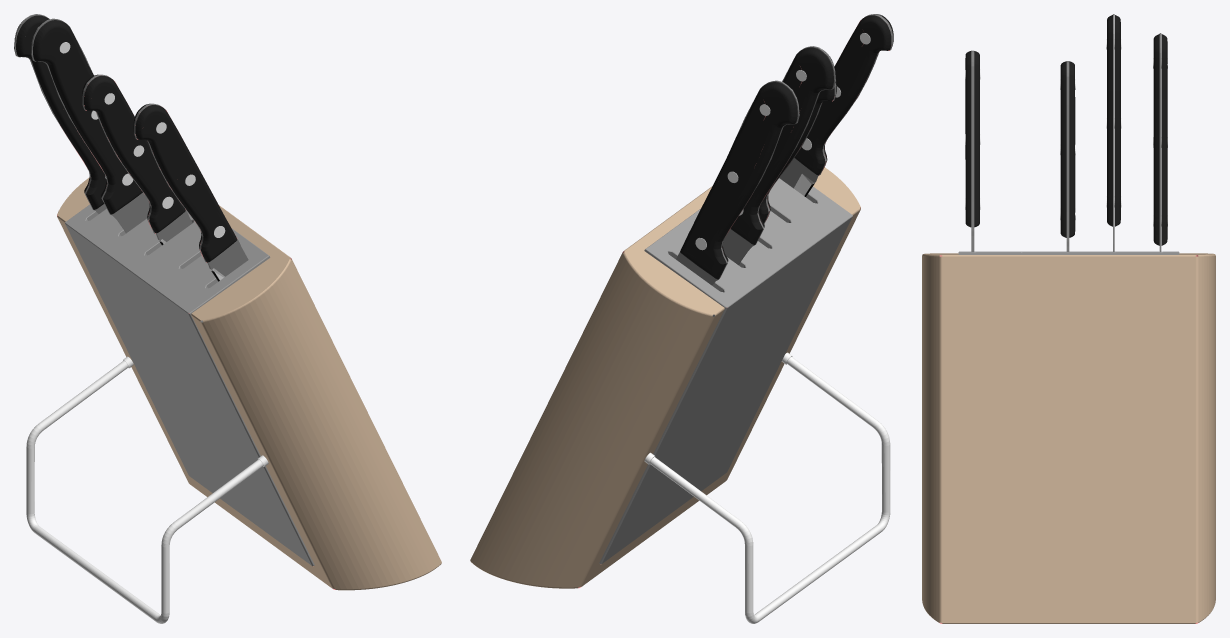
The model's file is cutlery.glb.
3 views of the same model, side by side, from view 1: azimuth 30°, elevation 25°; view 2: azimuth 150°, elevation 25°; view 3: azimuth 270°, elevation 25° (orthographic). The views are drawn at different scales.
Parts seen in each view (by area): view 1: mesh_28_ROOT__skpC3FA__Rectangle0_Layer0_173_128_89_ss, mesh_30_ROOT__skpC3FA__Rectangle1_Layer0_91_91_91_ss, mesh_19_ROOT__skpC3FA__2#2_Layer0_3_3_3_ss, mesh_9_ROOT__skpC3FA__1#1_Layer0_3_3_3_ss, mesh_32_ROOT__skpC3FA__Rectangle2_Layer0_255_255_255_ss, mesh_4_ROOT__skpC3FA__1_Layer0_3_3_3_ss, mesh_14_ROOT__skpC3FA__2#1_Layer0_3_3_3_ss, mesh_18_ROOT__skpC3FA__2#2_Layer0_57_57_57_ss, mesh_5_ROOT__skpC3FA__1#1_Layer0_57_57_57_ss, mesh_0_ROOT__skpC3FA__1_Layer0_57_57_57_ss; view 2: mesh_28_ROOT__skpC3FA__Rectangle0_Layer0_173_128_89_ss, mesh_30_ROOT__skpC3FA__Rectangle1_Layer0_91_91_91_ss, mesh_14_ROOT__skpC3FA__2#1_Layer0_3_3_3_ss, mesh_32_ROOT__skpC3FA__Rectangle2_Layer0_255_255_255_ss, mesh_9_ROOT__skpC3FA__1#1_Layer0_3_3_3_ss, mesh_19_ROOT__skpC3FA__2#2_Layer0_3_3_3_ss, mesh_18_ROOT__skpC3FA__2#2_Layer0_57_57_57_ss, mesh_5_ROOT__skpC3FA__1#1_Layer0_57_57_57_ss, mesh_13_ROOT__skpC3FA__2#1_Layer0_57_57_57_ss, mesh_4_ROOT__skpC3FA__1_Layer0_3_3_3_ss; view 3: mesh_28_ROOT__skpC3FA__Rectangle0_Layer0_173_128_89_ss, mesh_14_ROOT__skpC3FA__2#1_Layer0_3_3_3_ss, mesh_19_ROOT__skpC3FA__2#2_Layer0_3_3_3_ss, mesh_4_ROOT__skpC3FA__1_Layer0_3_3_3_ss, mesh_9_ROOT__skpC3FA__1#1_Layer0_3_3_3_ss, mesh_30_ROOT__skpC3FA__Rectangle1_Layer0_91_91_91_ss, mesh_5_ROOT__skpC3FA__1#1_Layer0_57_57_57_ss, mesh_0_ROOT__skpC3FA__1_Layer0_57_57_57_ss, mesh_13_ROOT__skpC3FA__2#1_Layer0_57_57_57_ss, mesh_18_ROOT__skpC3FA__2#2_Layer0_57_57_57_ss.
Part boxes in pixels (box(x1,y1,x2,y2)): mesh_28_ROOT__skpC3FA__Rectangle0_Layer0_173_128_89_ss: box(57, 177, 441, 590); mesh_30_ROOT__skpC3FA__Rectangle1_Layer0_91_91_91_ss: box(65, 204, 314, 566); mesh_19_ROOT__skpC3FA__2#2_Layer0_3_3_3_ss: box(32, 20, 142, 214); mesh_9_ROOT__skpC3FA__1#1_Layer0_3_3_3_ss: box(133, 103, 237, 262); mesh_32_ROOT__skpC3FA__Rectangle2_Layer0_255_255_255_ss: box(26, 360, 263, 623); mesh_4_ROOT__skpC3FA__1_Layer0_3_3_3_ss: box(82, 74, 185, 233); mesh_14_ROOT__skpC3FA__2#1_Layer0_3_3_3_ss: box(15, 15, 106, 209); mesh_18_ROOT__skpC3FA__2#2_Layer0_57_57_57_ss: box(31, 18, 149, 233); mesh_5_ROOT__skpC3FA__1#1_Layer0_57_57_57_ss: box(134, 103, 248, 276); mesh_0_ROOT__skpC3FA__1_Layer0_57_57_57_ss: box(82, 74, 192, 241); mesh_28_ROOT__skpC3FA__Rectangle0_Layer0_173_128_89_ss: box(470, 167, 860, 588); mesh_30_ROOT__skpC3FA__Rectangle1_Layer0_91_91_91_ss: box(599, 178, 852, 563); mesh_14_ROOT__skpC3FA__2#1_Layer0_3_3_3_ss: box(680, 82, 797, 279); mesh_32_ROOT__skpC3FA__Rectangle2_Layer0_255_255_255_ss: box(649, 356, 890, 623); mesh_9_ROOT__skpC3FA__1#1_Layer0_3_3_3_ss: box(794, 14, 893, 175); mesh_19_ROOT__skpC3FA__2#2_Layer0_3_3_3_ss: box(730, 47, 834, 244); mesh_18_ROOT__skpC3FA__2#2_Layer0_57_57_57_ss: box(722, 46, 835, 264); mesh_5_ROOT__skpC3FA__1#1_Layer0_57_57_57_ss: box(779, 14, 892, 188); mesh_13_ROOT__skpC3FA__2#1_Layer0_57_57_57_ss: box(676, 80, 799, 285); mesh_4_ROOT__skpC3FA__1_Layer0_3_3_3_ss: box(759, 80, 836, 222); mesh_28_ROOT__skpC3FA__Rectangle0_Layer0_173_128_89_ss: box(922, 253, 1215, 623); mesh_14_ROOT__skpC3FA__2#1_Layer0_3_3_3_ss: box(1153, 34, 1167, 245); mesh_19_ROOT__skpC3FA__2#2_Layer0_3_3_3_ss: box(1107, 15, 1120, 226); mesh_4_ROOT__skpC3FA__1_Layer0_3_3_3_ss: box(1060, 61, 1075, 237); mesh_9_ROOT__skpC3FA__1#1_Layer0_3_3_3_ss: box(965, 51, 979, 227); mesh_30_ROOT__skpC3FA__Rectangle1_Layer0_91_91_91_ss: box(958, 251, 1179, 254); mesh_5_ROOT__skpC3FA__1#1_Layer0_57_57_57_ss: box(971, 50, 974, 252); mesh_0_ROOT__skpC3FA__1_Layer0_57_57_57_ss: box(1066, 61, 1069, 252); mesh_13_ROOT__skpC3FA__2#1_Layer0_57_57_57_ss: box(1159, 33, 1161, 251); mesh_18_ROOT__skpC3FA__2#2_Layer0_57_57_57_ss: box(1113, 14, 1114, 252).
Bounding box in the file's own units: 172 × 288 × 158.
